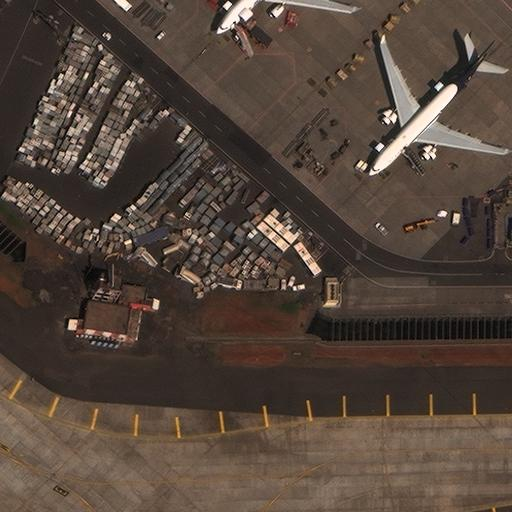Large Civil Transport: (370, 34, 505, 175), (217, 0, 350, 32)
